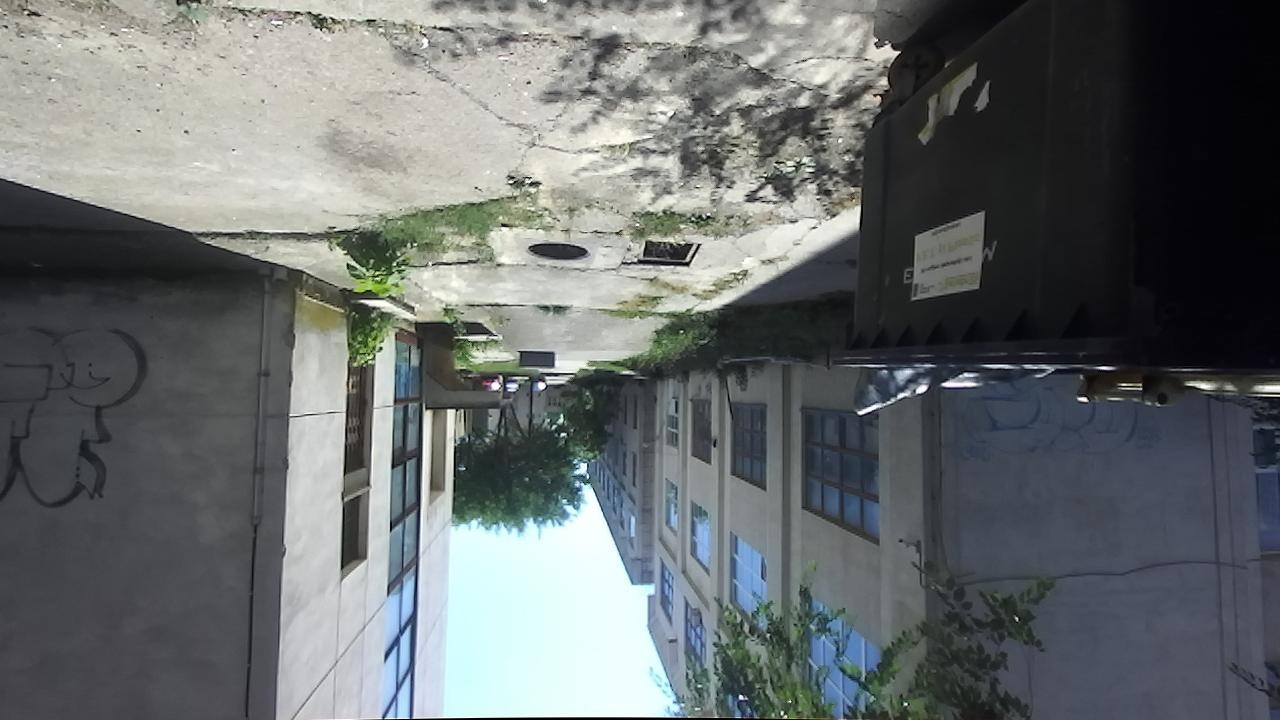drain: (634, 239, 706, 270), (521, 239, 596, 262)
